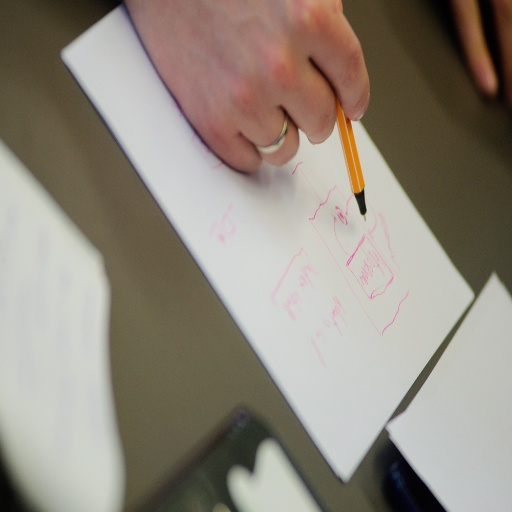hand: (164, 3, 361, 183), (451, 0, 511, 97)
